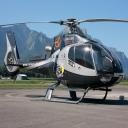helicopter: (1, 18, 128, 105)
